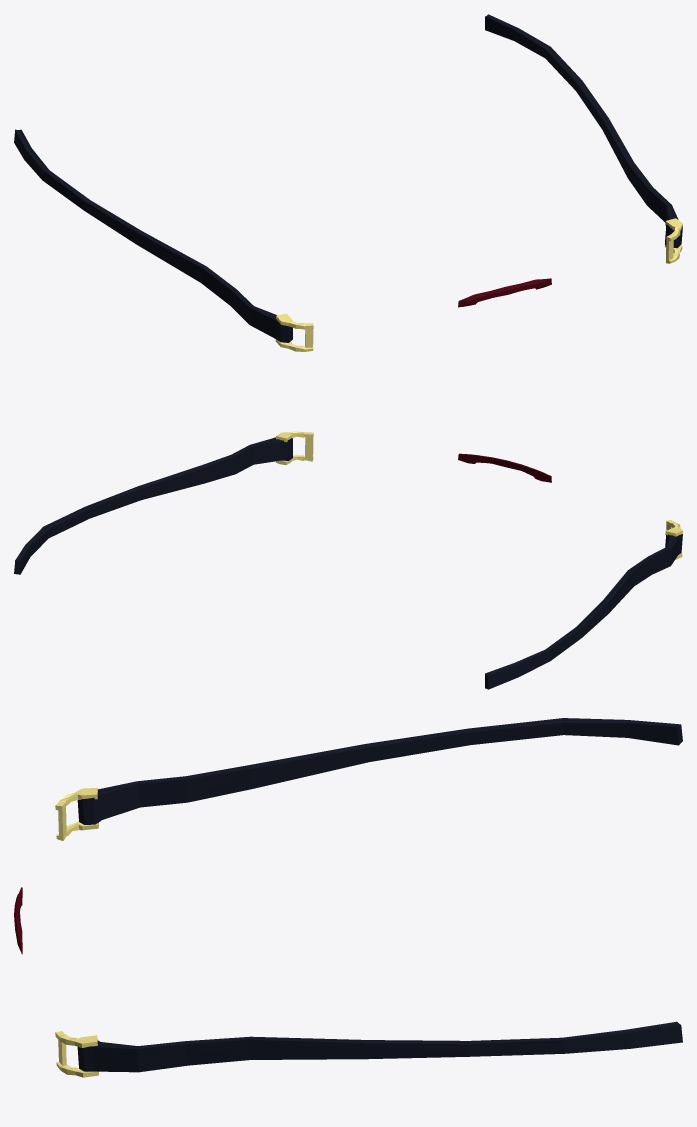
The model's file is mhw_spamrakuen_sagerfrogs_glasses_04.glb.
3 views of the same model, one above another, from view 1: azimuth 30°, elevation 25°; view 2: azimuth 150°, elevation 25°; view 3: azimuth 270°, elevation 25° (orthographic). The views are drawn at different scales.
Parts seen in each view (by area): view 1: mhw_spamrakuen_sagerfrogs_glasses_04; view 2: mhw_spamrakuen_sagerfrogs_glasses_04; view 3: mhw_spamrakuen_sagerfrogs_glasses_04.
Part boxes in pixels (bbox=[...]): mhw_spamrakuen_sagerfrogs_glasses_04: bbox=[14, 14, 682, 351]; mhw_spamrakuen_sagerfrogs_glasses_04: bbox=[14, 431, 682, 689]; mhw_spamrakuen_sagerfrogs_glasses_04: bbox=[14, 718, 682, 1077].
Bounding box in the file's own units: 0.162 × 0.0335 × 0.1419.
Materials: 1 (1 with a texture image).
